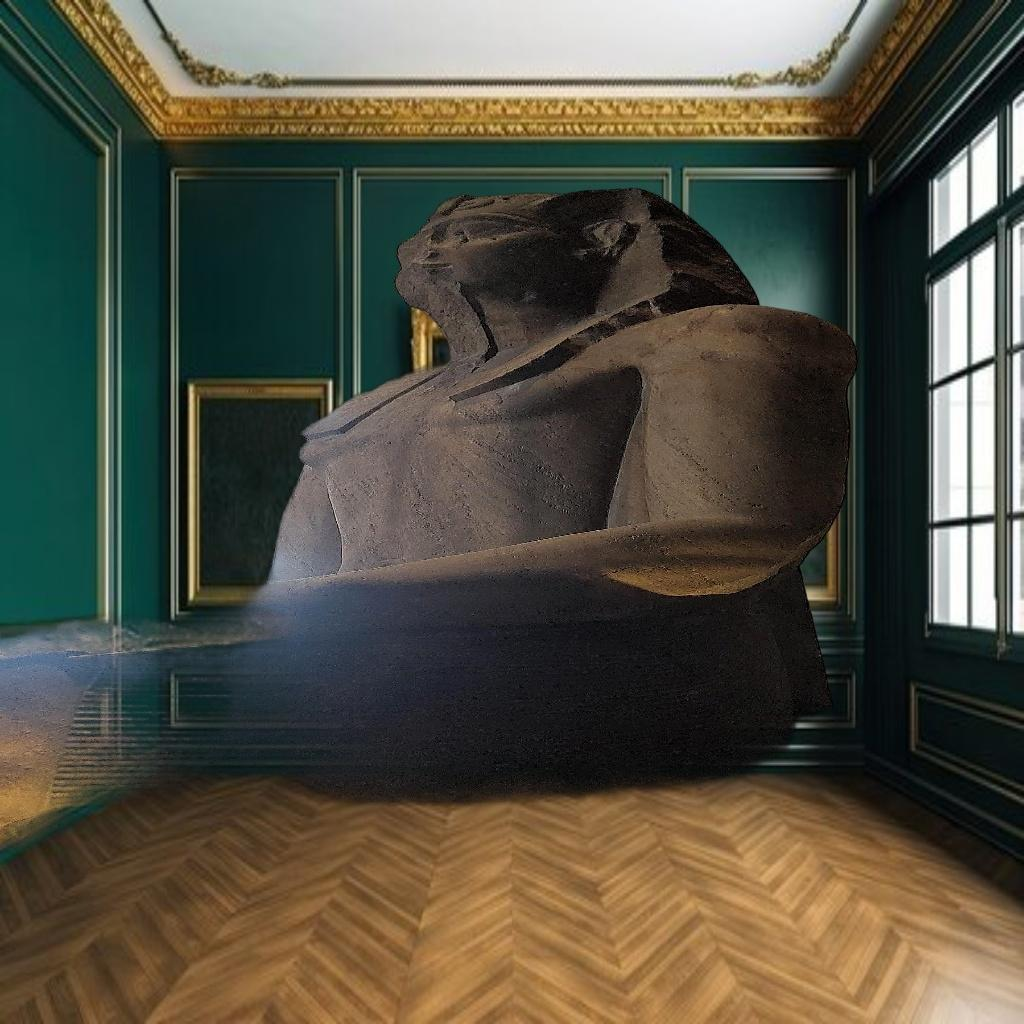Colossal Statue of Middle Kingdom King: (0, 179, 870, 1024)
